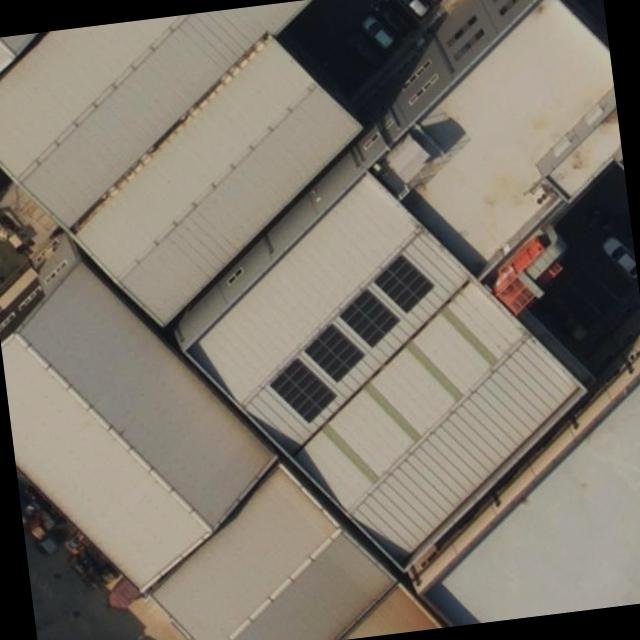solar: (263, 346, 344, 432), (298, 313, 374, 386), (332, 279, 407, 351), (369, 247, 436, 318)
